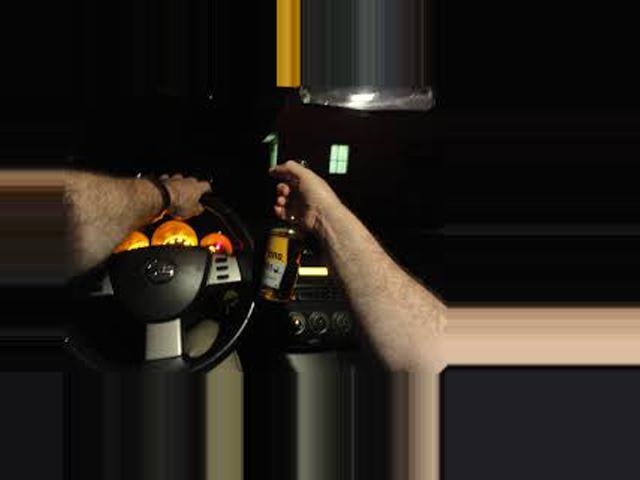beer: (254, 160, 310, 300)
